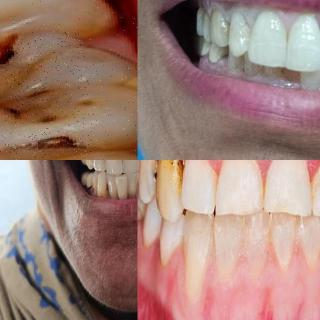Gum Swelling: (185, 242, 320, 320)
calculus: (182, 221, 210, 296), (215, 218, 241, 277), (245, 212, 269, 274), (273, 213, 297, 270), (299, 221, 319, 263), (304, 172, 320, 216), (116, 188, 138, 198)
cavities: (0, 30, 122, 160), (148, 160, 162, 190), (138, 182, 144, 236), (101, 183, 111, 197)
maligned: (278, 57, 306, 89), (113, 171, 130, 201)
plaque: (217, 62, 276, 76)
stains: (162, 160, 184, 214), (252, 169, 270, 216), (118, 160, 128, 165)
